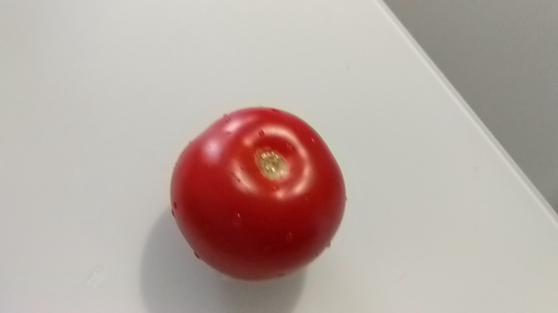tomato: (170, 105, 346, 281)
